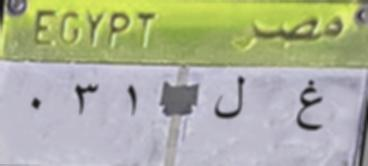0: (25, 92, 50, 119)
1: (122, 82, 144, 118)
3: (73, 82, 100, 118)
ghayn: (292, 72, 330, 138)
laam: (214, 71, 246, 123)
